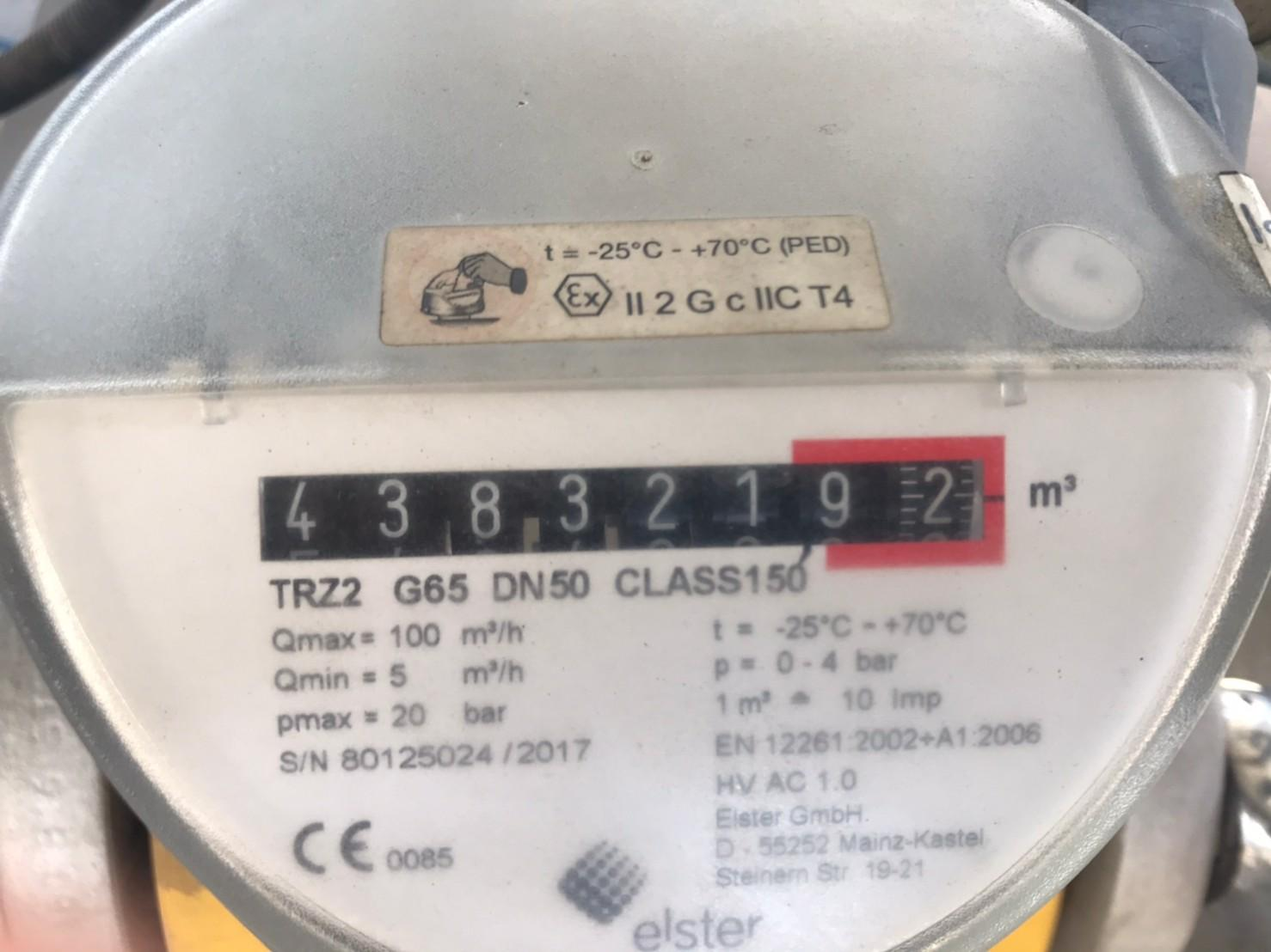analog_dial: (252, 421, 1016, 593)
